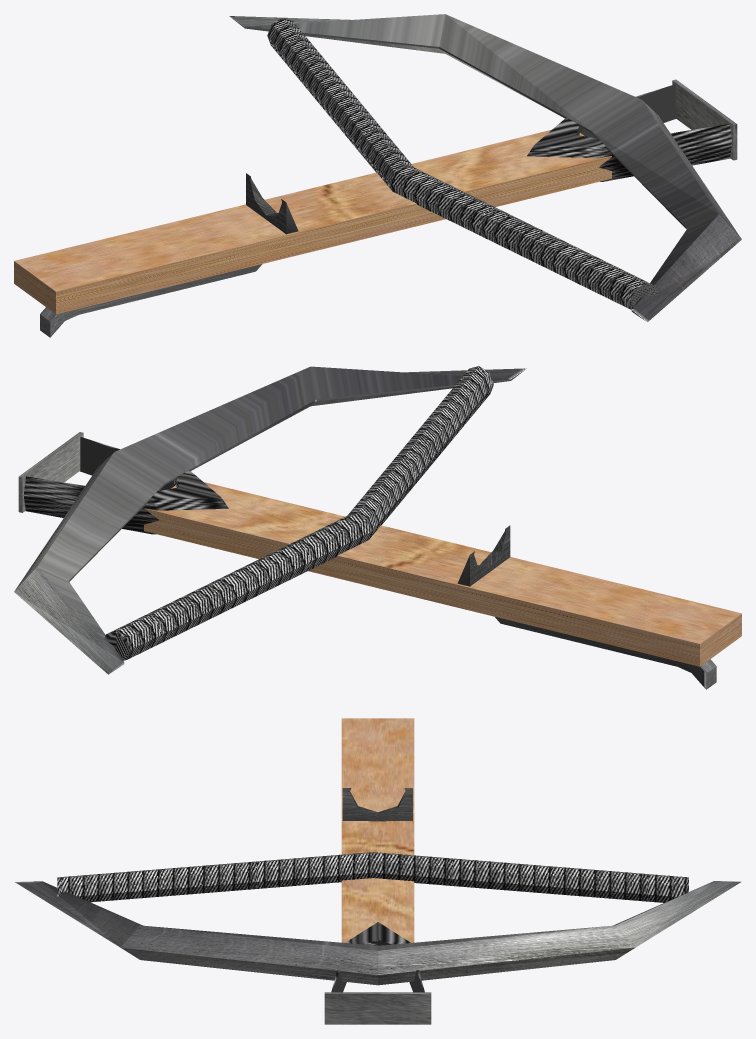
File: Crossbow10.obj
The picture shows the model from 3 angles, top to bottom: view 1: azimuth 30°, elevation 25°; view 2: azimuth 150°, elevation 25°; view 3: azimuth 270°, elevation 25°; orthographic projection. The views are drawn at different scales.
Parts seen in each view (by area): view 1: Sphere.002, Sphere.001, Sphere; view 2: Sphere.002, Sphere.001, Sphere; view 3: Sphere.001, Sphere, Sphere.002.
Part boxes in pixels (x1=…): Sphere.002: x1=14, y1=129, x2=611, y2=314; Sphere.001: x1=40, y1=14, x2=741, y2=337; Sphere: x1=267, y1=17, x2=731, y2=309; Sphere.002: x1=144, y1=482, x2=741, y2=666; Sphere.001: x1=14, y1=366, x2=716, y2=689; Sphere: x1=23, y1=366, x2=493, y2=660; Sphere.001: x1=14, y1=788, x2=741, y2=1024; Sphere: x1=57, y1=852, x2=688, y2=992; Sphere.002: x1=341, y1=718, x2=414, y2=942.
Bounding box in the file's own units: 4.67 × 0.6142 × 5.04.
